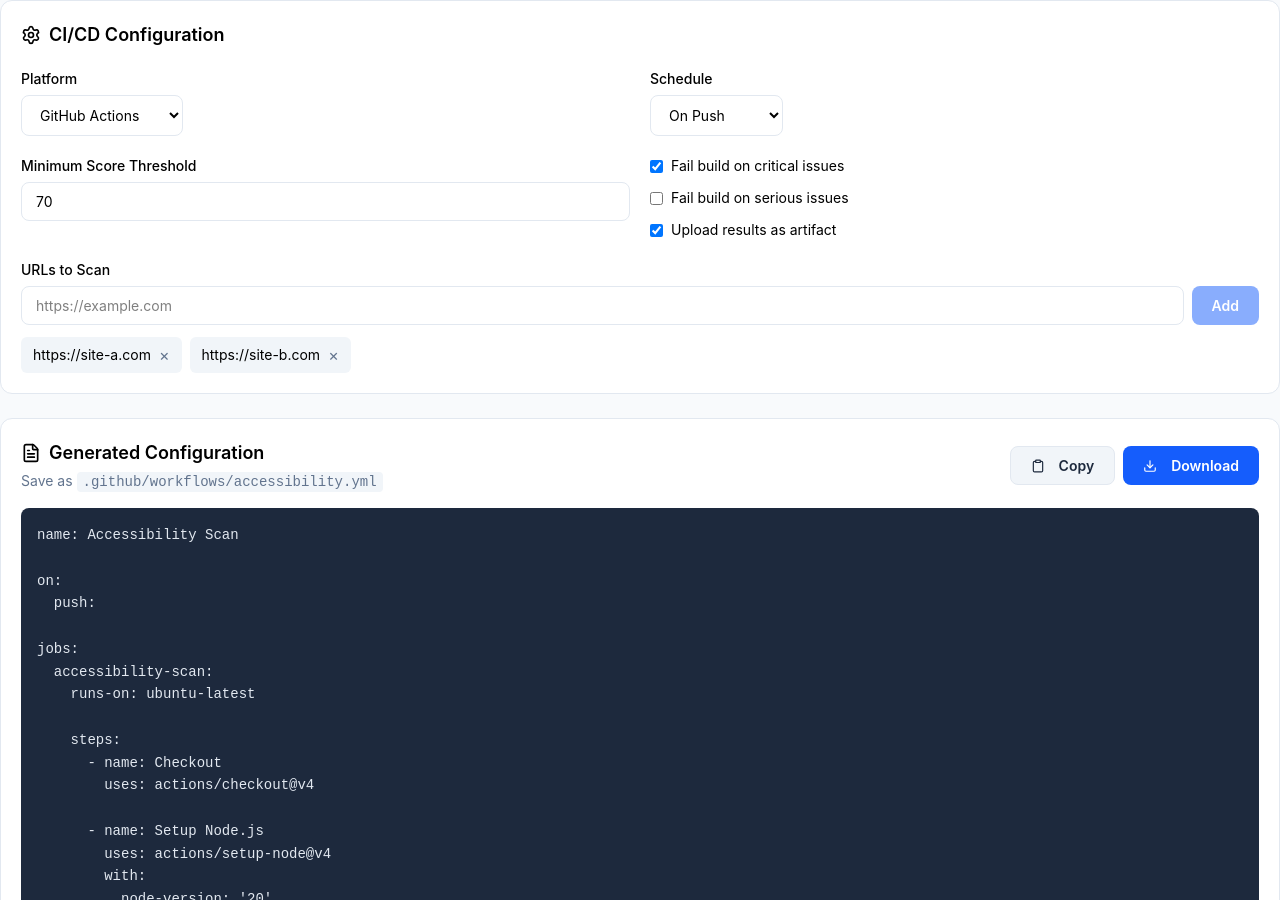
Test: settings/CICDGenerator › handles Enter key to add URL
Type "https://enter.com" into the field with placeholder "https://example.com" at coordinates (602, 306), box [21, 286, 1184, 325]
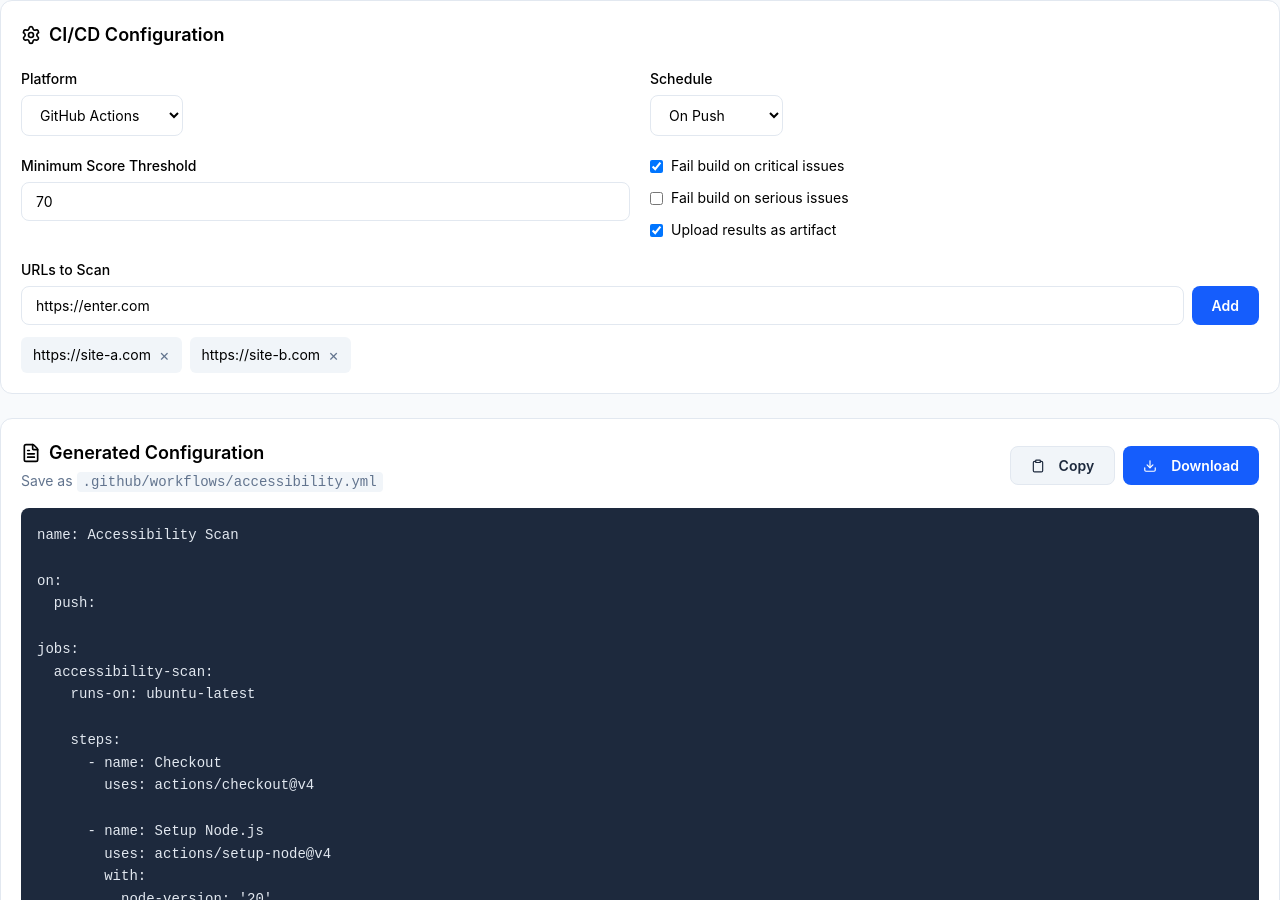
Press Enter in the field with placeholder "https://example.com", box [21, 286, 1184, 325]
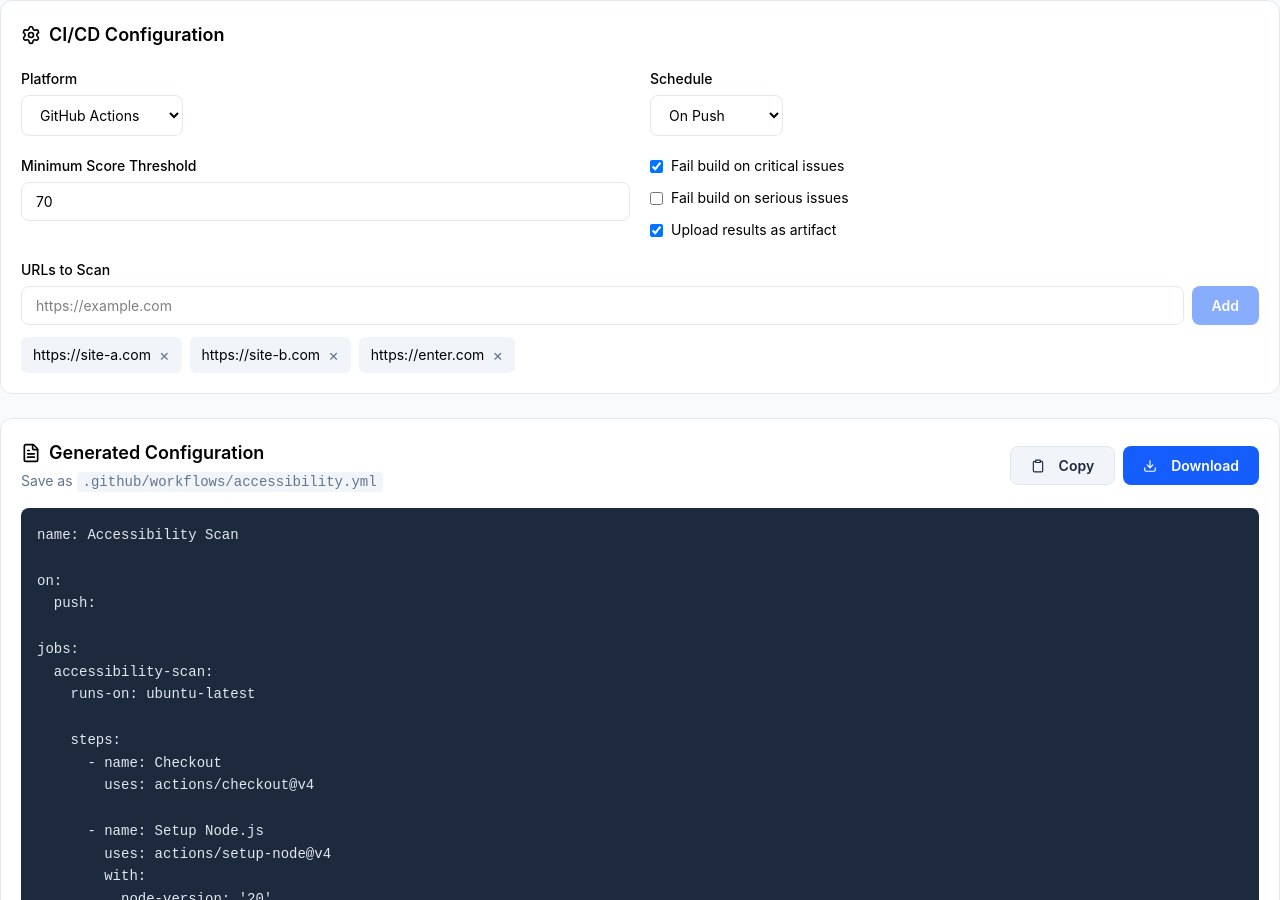
Expected: the text "https://enter.com" is shown, [371, 345, 484, 365]
